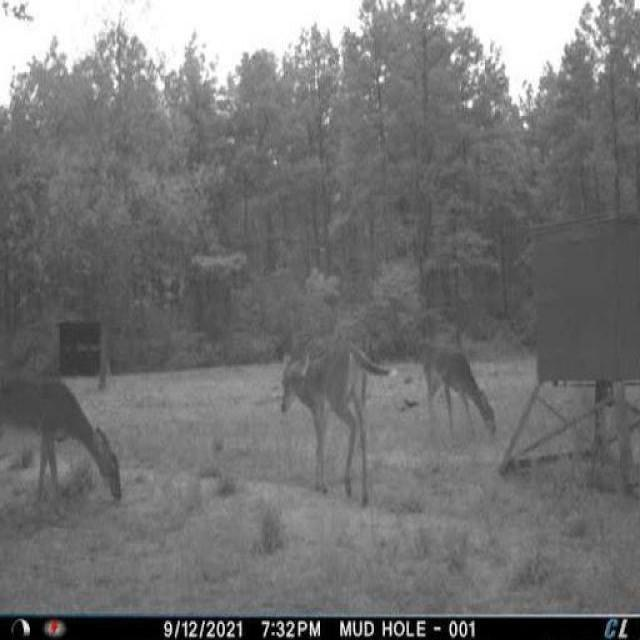deer: (2, 371, 134, 521), (275, 340, 390, 507), (415, 323, 501, 452)
